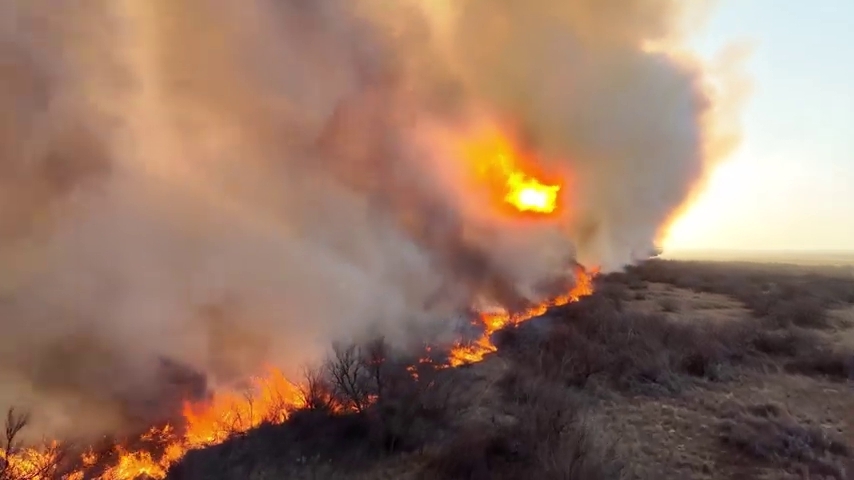forest_fire: (96, 369, 308, 479), (407, 268, 595, 378), (0, 442, 59, 479), (59, 452, 97, 479)
